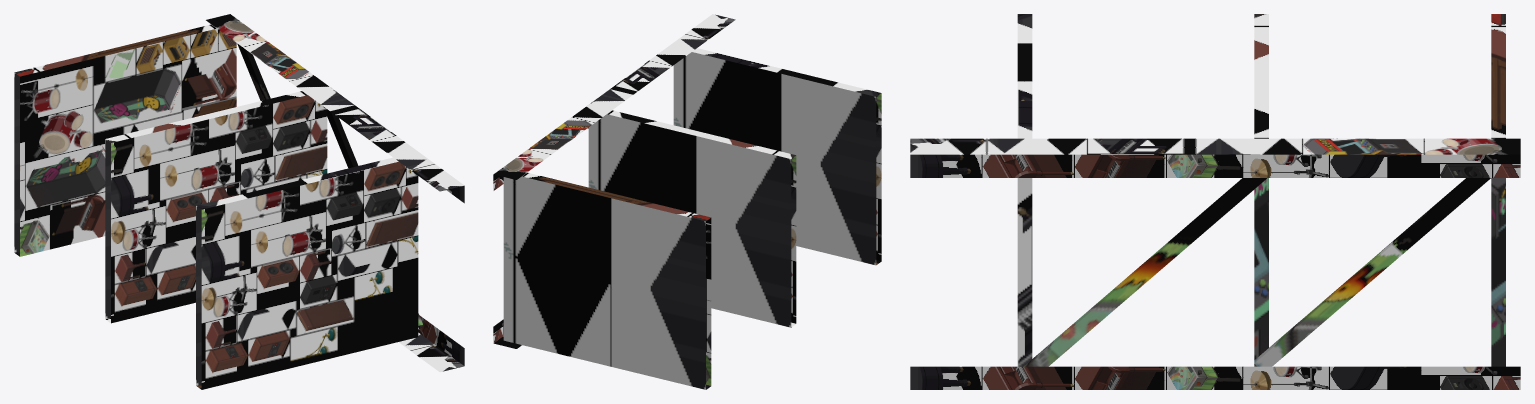
The picture shows the model from 3 angles, left to right: view 1: azimuth 30°, elevation 25°; view 2: azimuth 150°, elevation 25°; view 3: azimuth 270°, elevation 25°; orthographic projection. The views are drawn at different scales.
Size of the model in its own units: 0.901 by 0.702 by 1.65.
